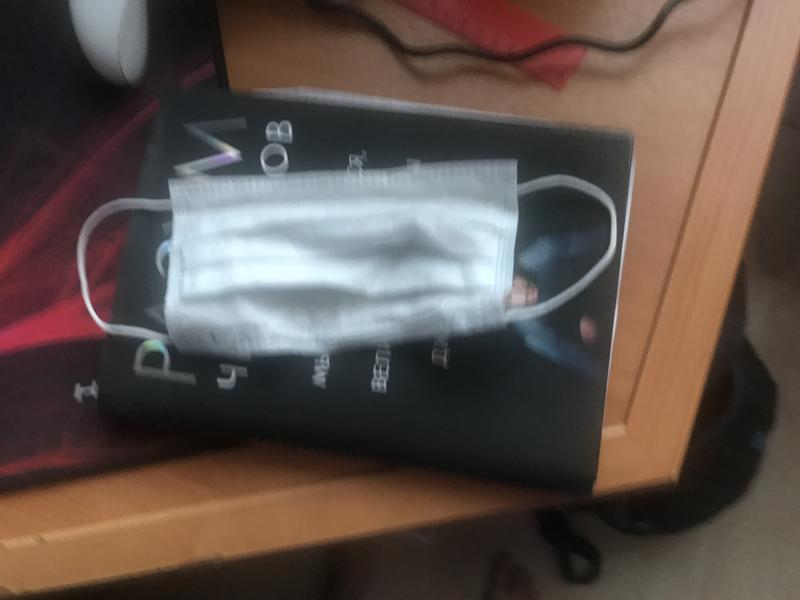medical_mask: (78, 164, 611, 351)
